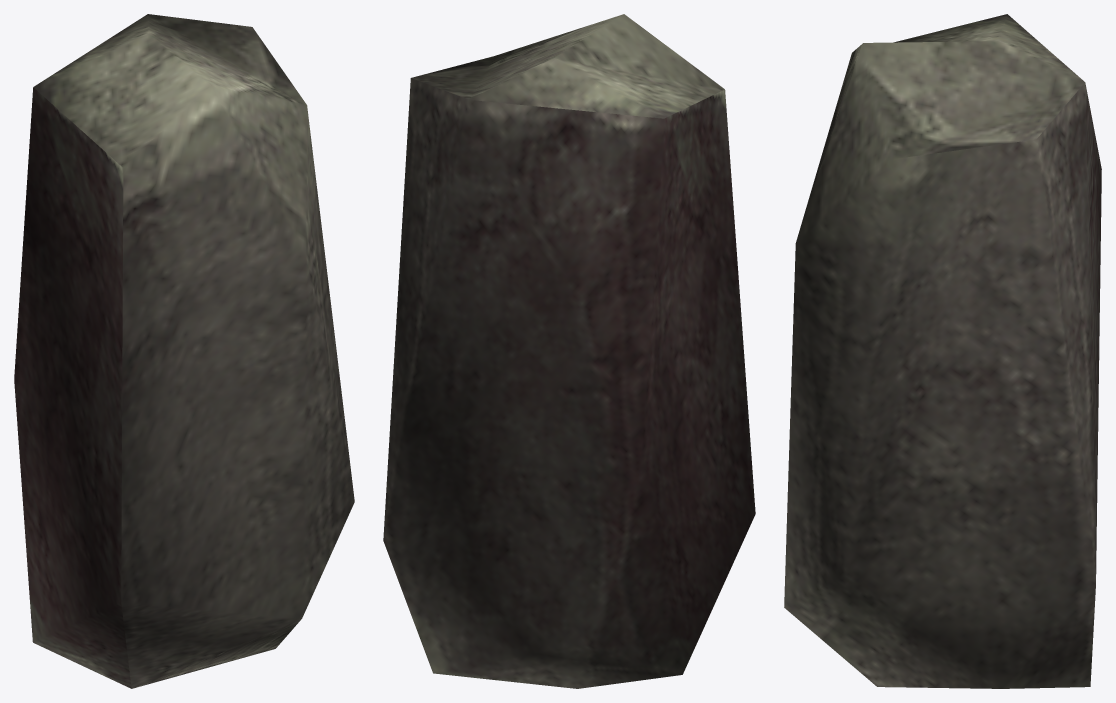
The model's file is Scene_Rock_08.FBX.
3 renders of one model, left to right at view 1: azimuth 30°, elevation 25°; view 2: azimuth 150°, elevation 25°; view 3: azimuth 270°, elevation 25°, orthographic. The views are drawn at different scales.
Visible parts, largest first — view 1: Scene_Rock_08; view 2: Scene_Rock_08; view 3: Scene_Rock_08.
Boxes of the visible parts, x1=… form: Scene_Rock_08: x1=14, y1=14, x2=354, y2=688; Scene_Rock_08: x1=383, y1=14, x2=755, y2=688; Scene_Rock_08: x1=784, y1=14, x2=1101, y2=688.
Bounding box in the file's own units: 1.19 × 2.64 × 1.24.
